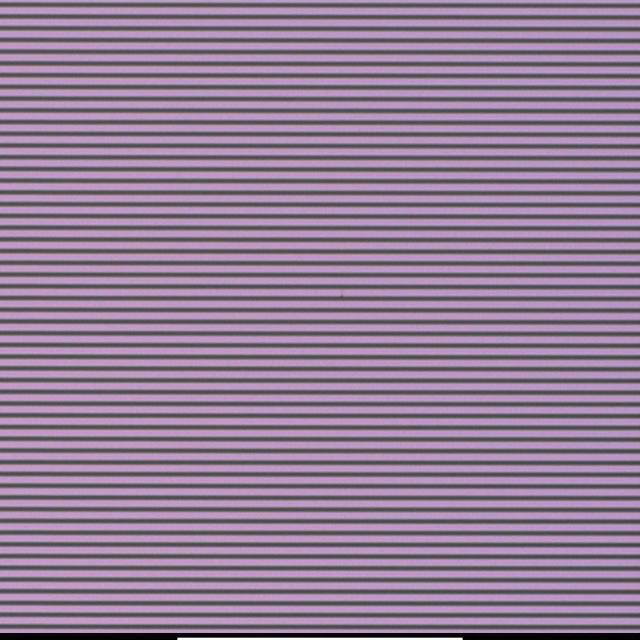nonvisual: (336, 290, 347, 303)
